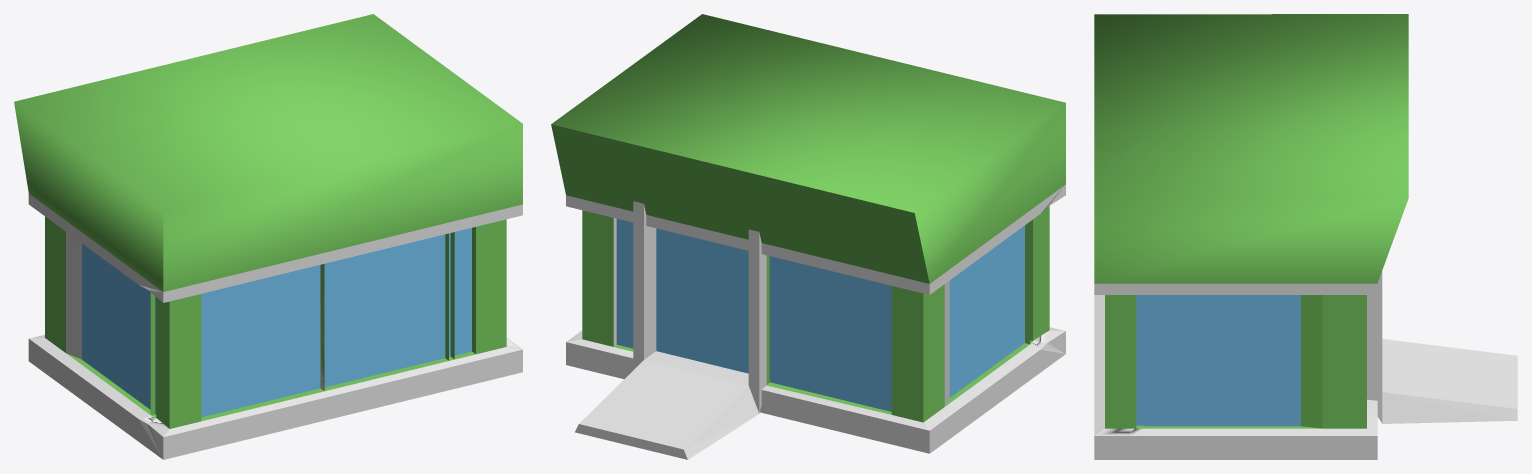
The model's file is Shop3x2x2Green.fbx.
3 renders of one model, left to right at view 1: azimuth 30°, elevation 25°; view 2: azimuth 150°, elevation 25°; view 3: azimuth 270°, elevation 25°, orthographic. The views are drawn at different scales.
Parts seen in each view (by area): view 1: Shop.002; view 2: Shop.002; view 3: Shop.002.
Part boxes in pixels (<box>): Shop.002: <box>14,14,522,459</box>; Shop.002: <box>551,14,1065,459</box>; Shop.002: <box>1094,14,1517,459</box>.
Size of the model in its own units: 3 by 1.98 by 2.91.
1 material, 1 textured.
